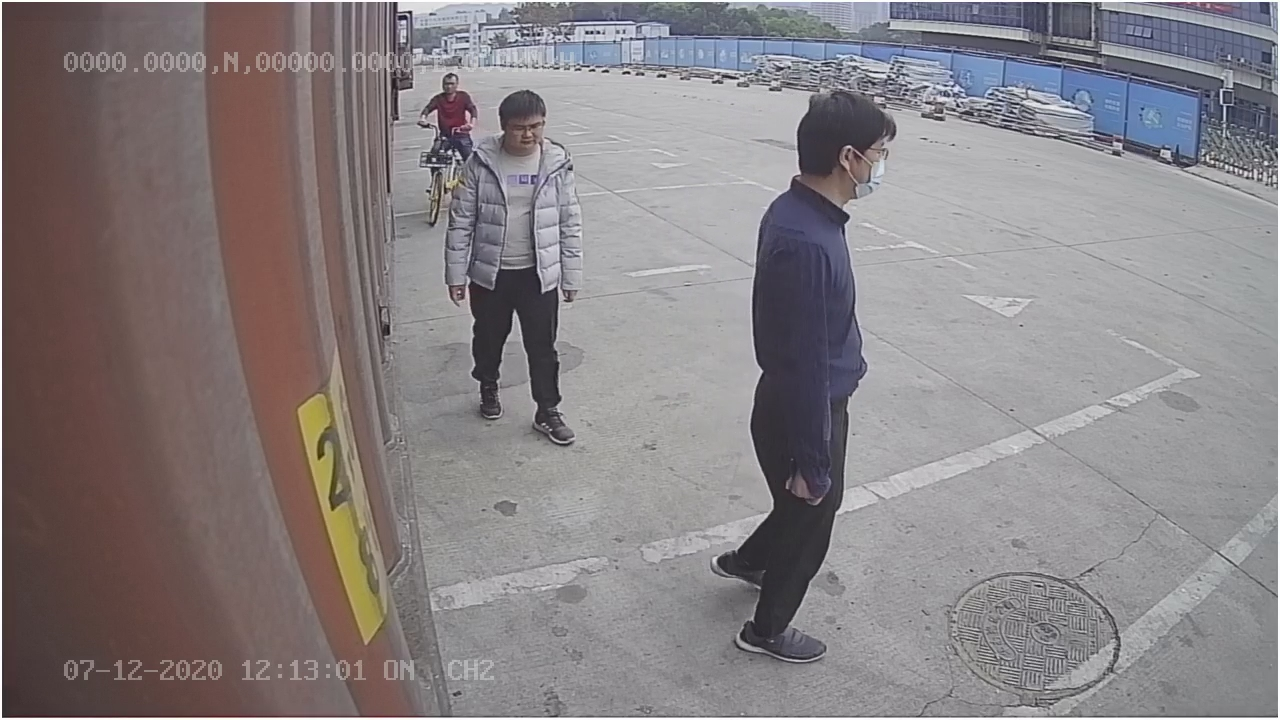person: (701, 78, 897, 663)
